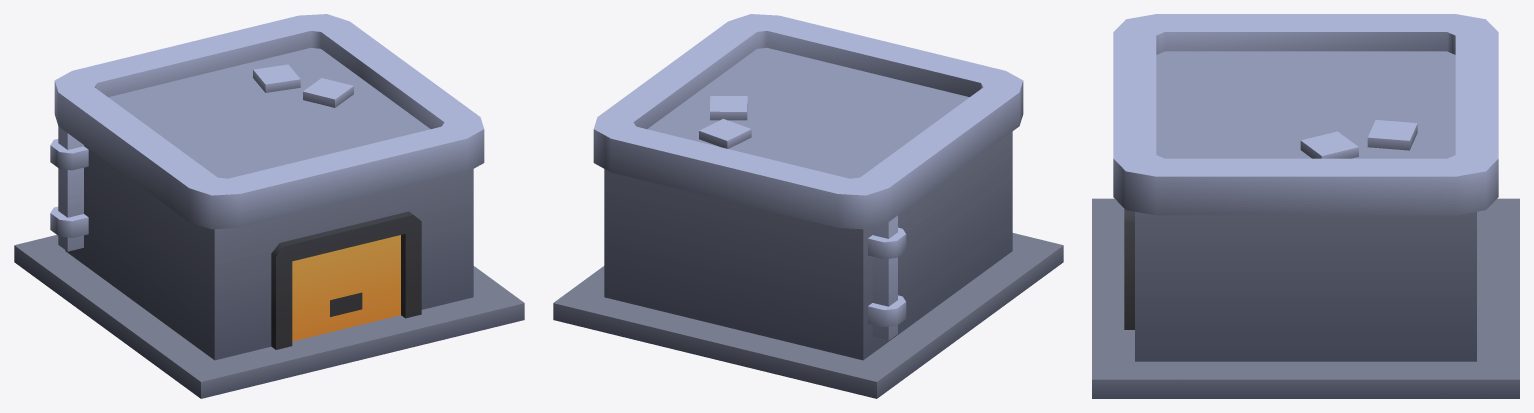
The model's file is kn-garage.glb.
The picture shows the model from 3 angles, left to right: view 1: azimuth 30°, elevation 25°; view 2: azimuth 150°, elevation 25°; view 3: azimuth 270°, elevation 25°; orthographic projection. The views are drawn at different scales.
Visible parts, largest first — view 1: building-garage; view 2: building-garage; view 3: building-garage.
Boxes of the visible parts, x1,y1,x2,y2 form: building-garage: [14, 14, 524, 398]; building-garage: [553, 14, 1063, 398]; building-garage: [1092, 14, 1519, 398].
Bounding box in the file's own units: 1 × 0.55 × 1.
Materials: 1 (1 with a texture image).
